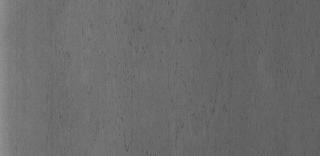silk spot: (110, 18, 244, 144)
